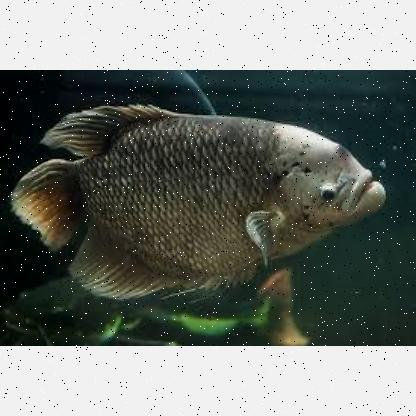gurame: (13, 102, 390, 300)
